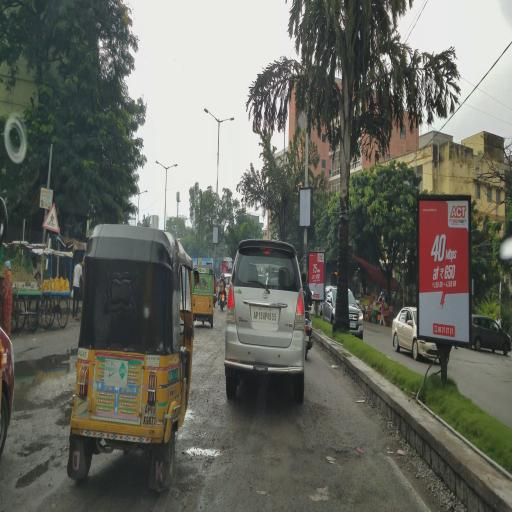street_light_0: (219, 112, 239, 132), (201, 105, 221, 125), (136, 178, 150, 204), (166, 155, 180, 179), (152, 152, 166, 176)
